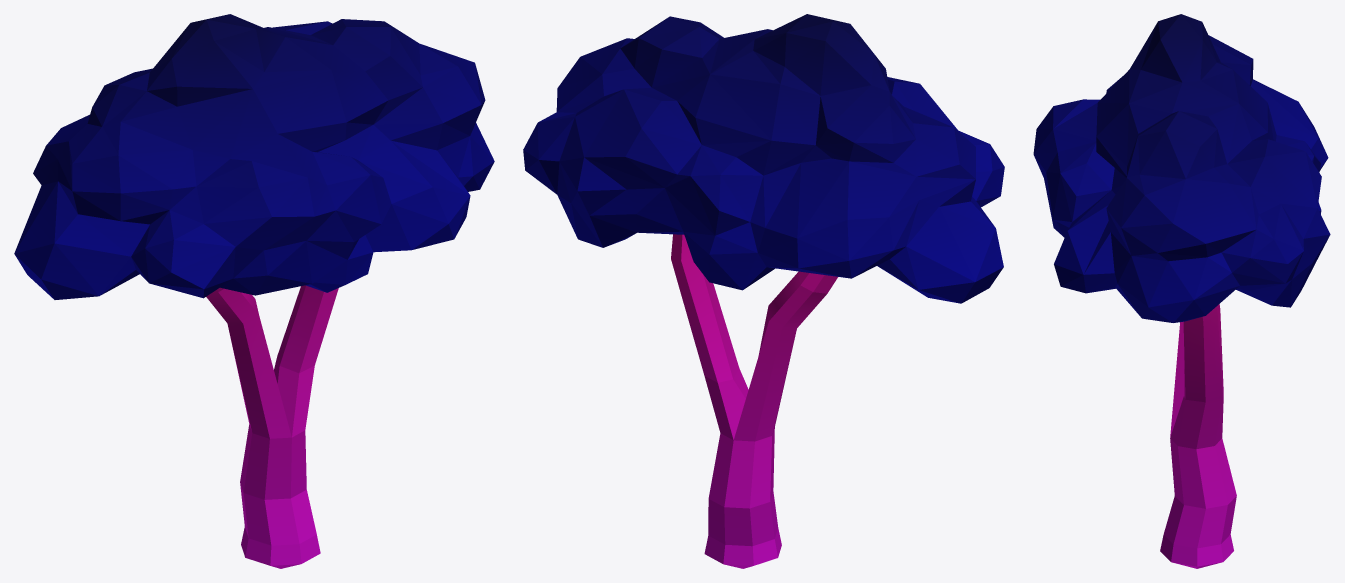
The model's file is SM_Tree_Round_02.gltf.
3 renders of one model, left to right at view 1: azimuth 30°, elevation 25°; view 2: azimuth 150°, elevation 25°; view 3: azimuth 270°, elevation 25°, orthographic. The views are drawn at different scales.
Parts seen in each view (by area): view 1: SM_Tree_Round_02; view 2: SM_Tree_Round_02; view 3: SM_Tree_Round_02.
Part boxes in pixels (box(x1,y1,x2,y2)): SM_Tree_Round_02: box(14, 14, 494, 568); SM_Tree_Round_02: box(523, 14, 1004, 568); SM_Tree_Round_02: box(1033, 14, 1330, 568).
Size of the model in its own units: 3.86 by 4.73 by 2.46.
